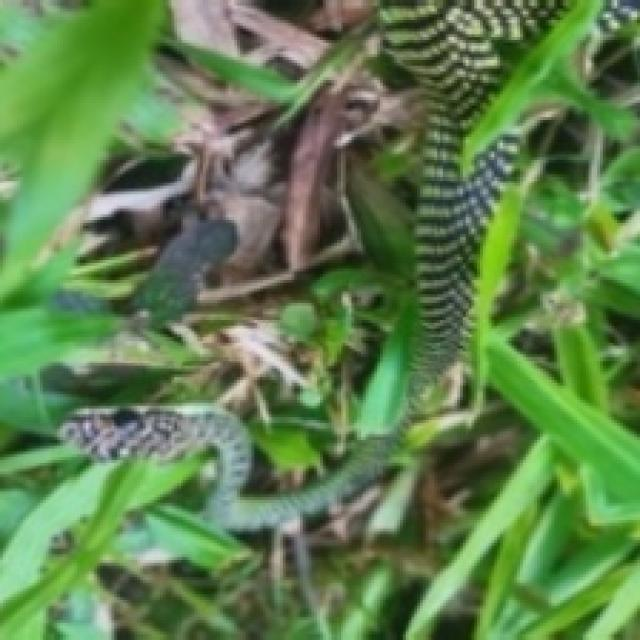paradise tree snake: (63, 0, 637, 637), (269, 109, 346, 269)
